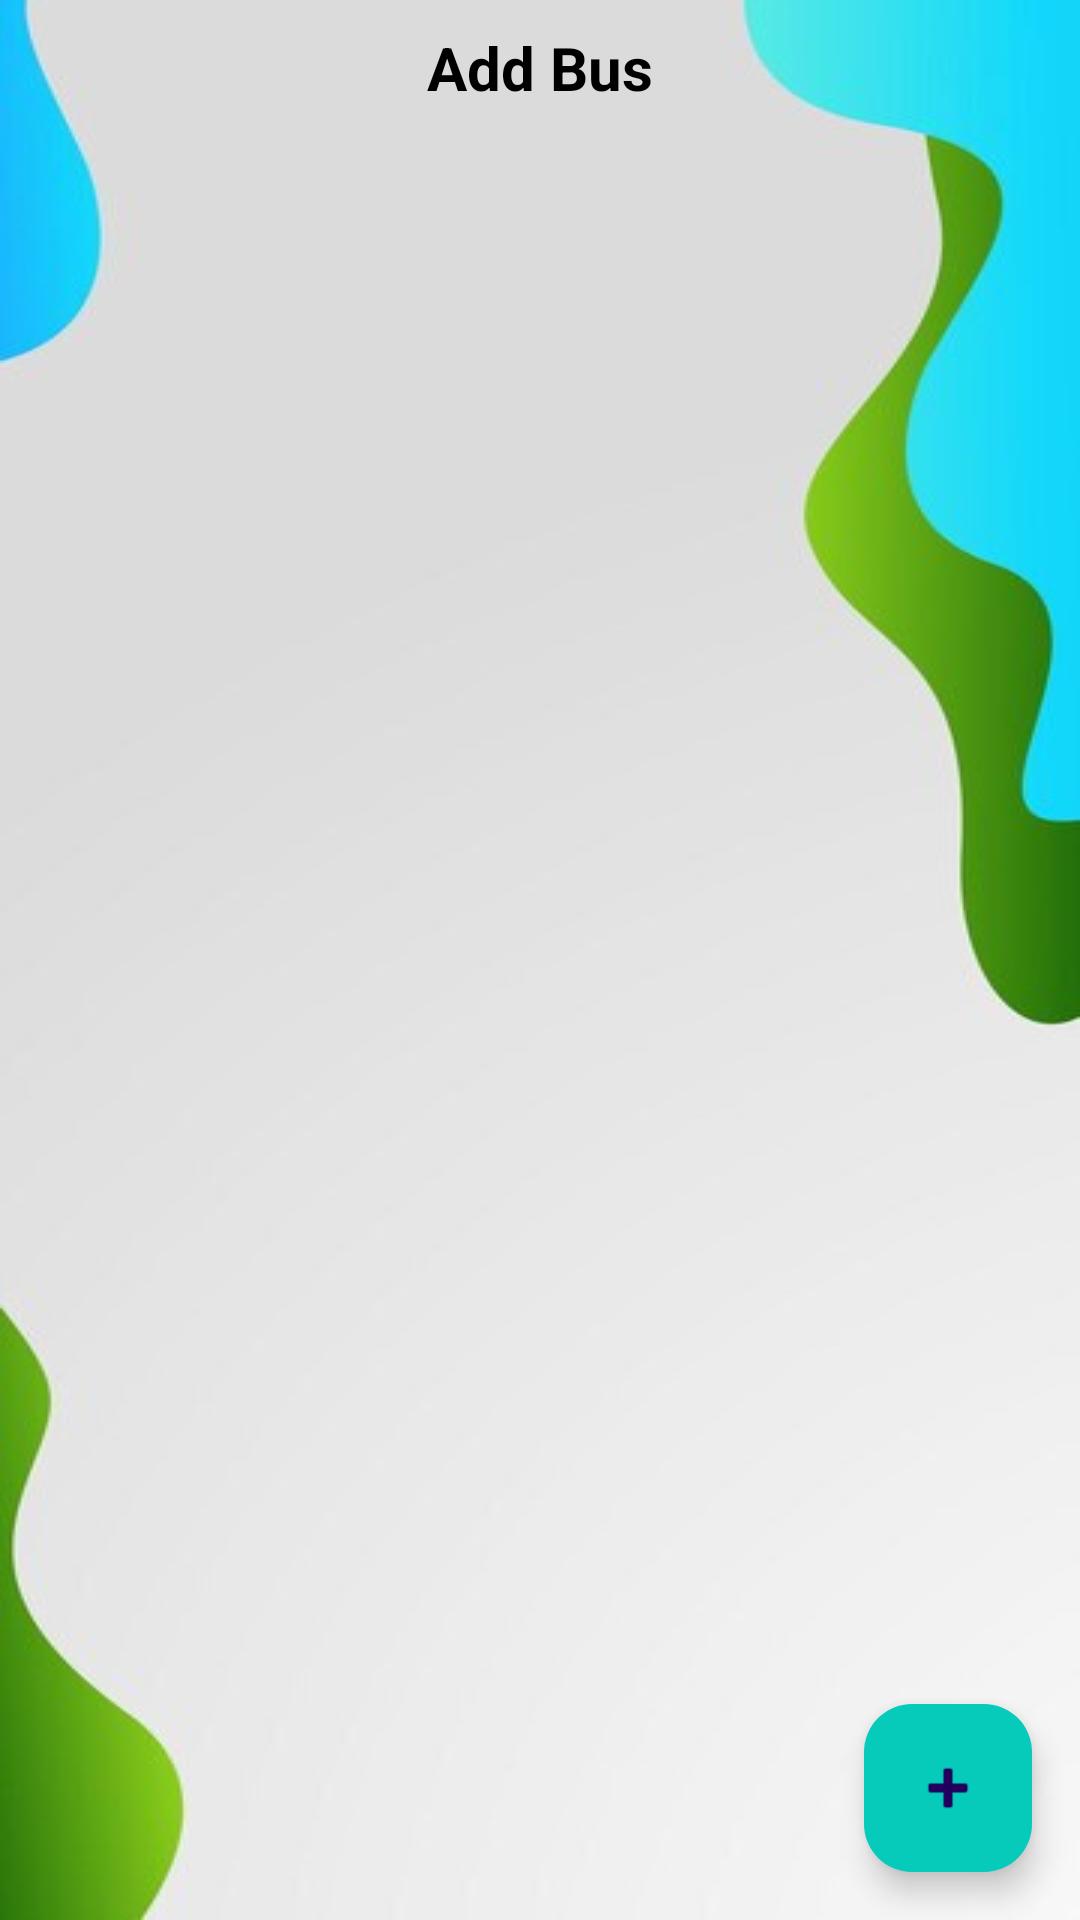

Point at icon controls on the screen. Image size 1080 x 1920, points as (x=x, y=y).
Add Task: (x=948, y=1788)
